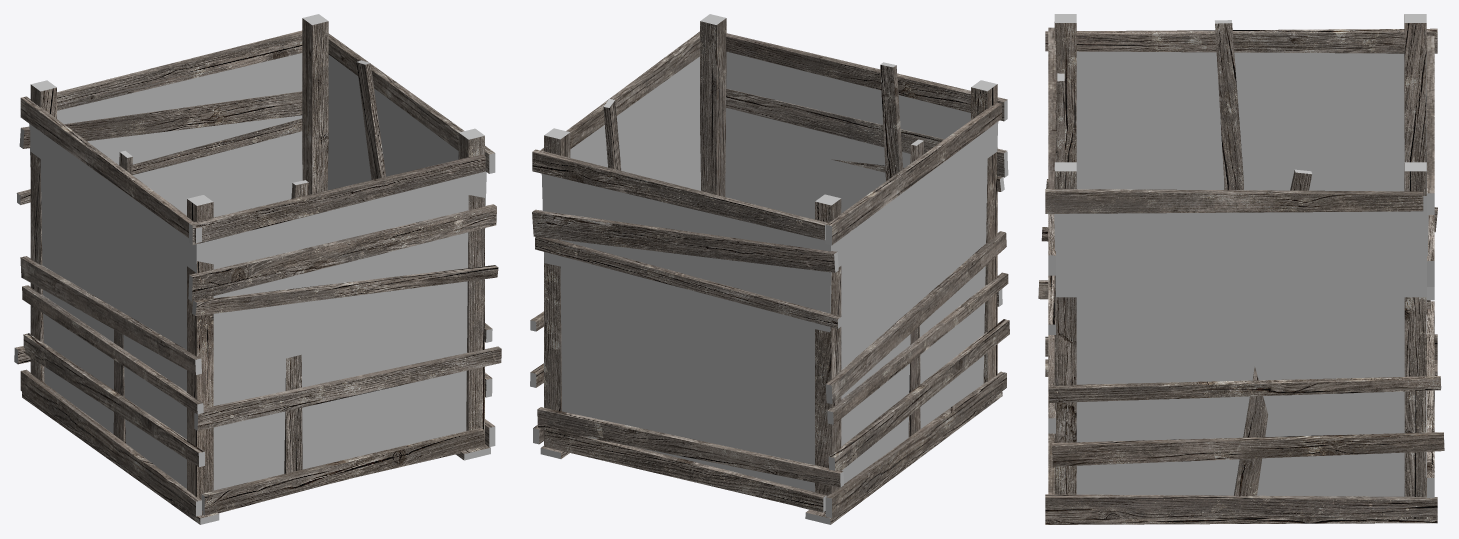
Rendered from Chest4.fbx.
3 renders of one model, left to right at view 1: azimuth 30°, elevation 25°; view 2: azimuth 150°, elevation 25°; view 3: azimuth 270°, elevation 25°, orthographic. The views are drawn at different scales.
Visible parts, largest first — view 1: polySurface772; view 2: polySurface772; view 3: polySurface772.
Boxes of the visible parts, left/top/right/bottom form: polySurface772: left=14, top=14, right=501, bottom=524; polySurface772: left=530, top=14, right=1009, bottom=524; polySurface772: left=1038, top=14, right=1444, bottom=524.
Size of the model in its own units: 1.18 by 1.14 by 1.18.
